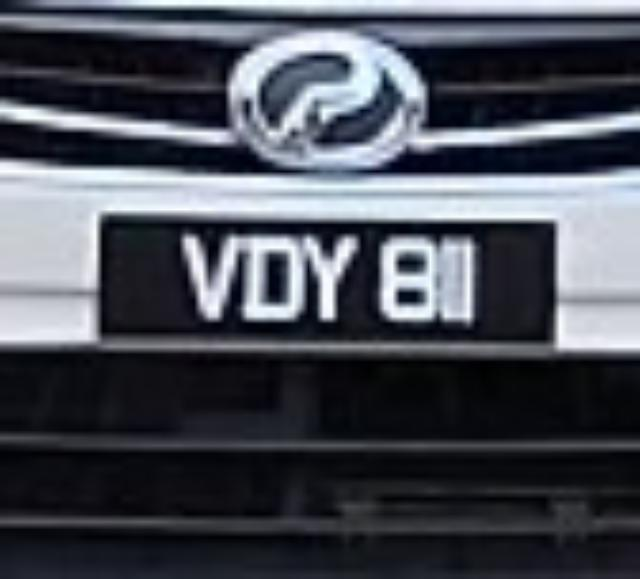License_Plate: (74, 198, 585, 367)
